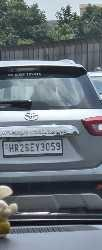License plate: (3, 139, 63, 156)
